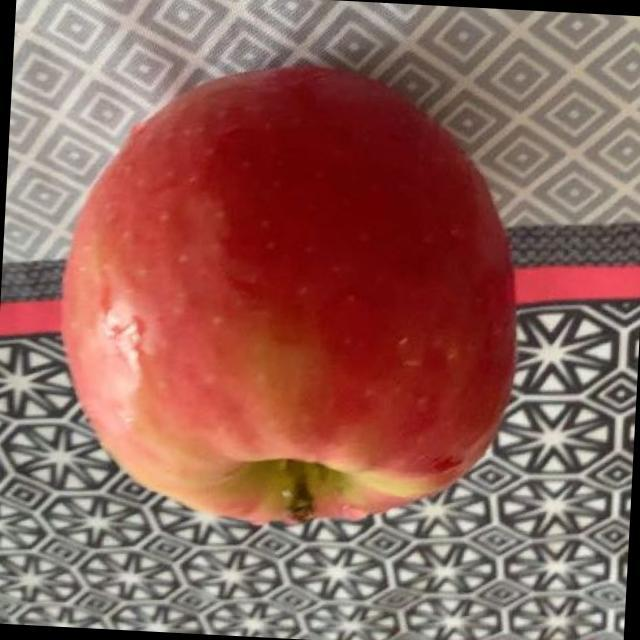Apple: (39, 46, 545, 552)
